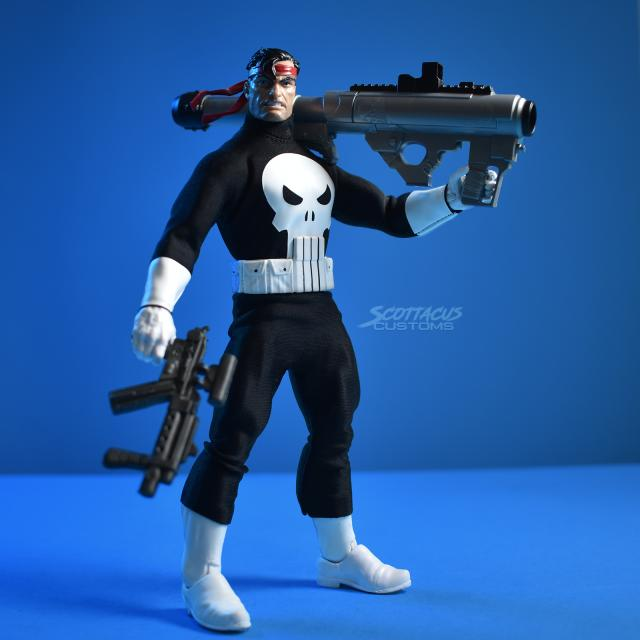bazooka: (116, 69, 579, 267)
